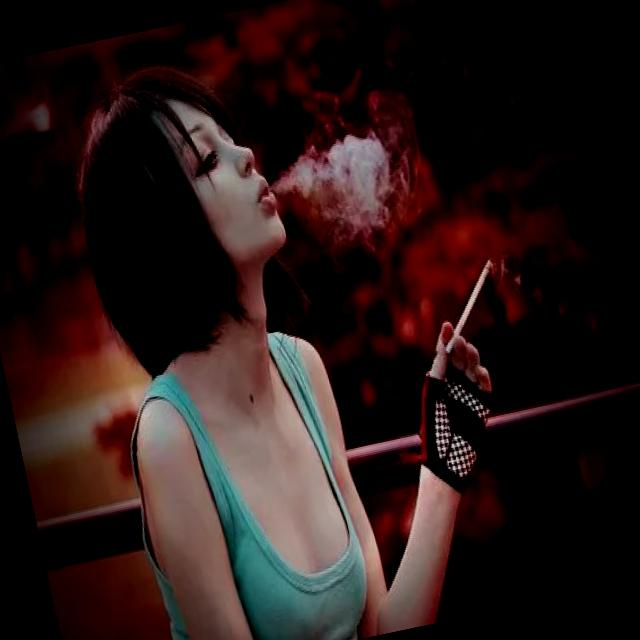smoke: (424, 251, 510, 355)
